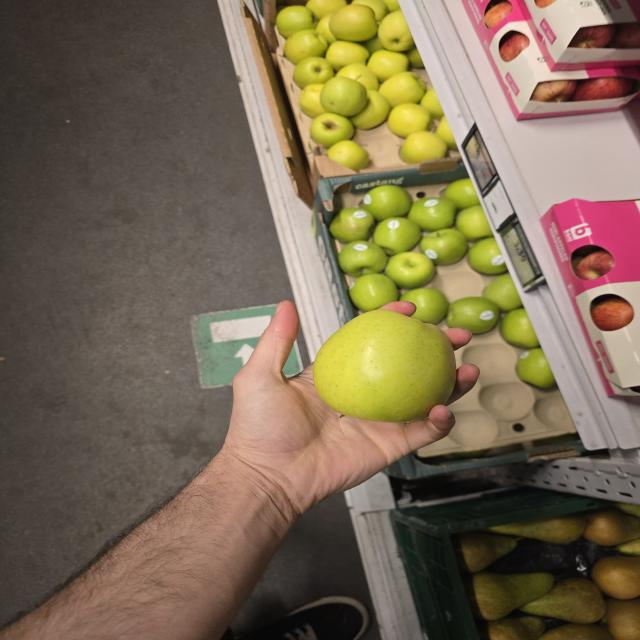Apple: (313, 309, 456, 422), (446, 297, 499, 335), (320, 76, 369, 117), (349, 273, 399, 312), (373, 217, 421, 255), (419, 228, 468, 265), (385, 252, 435, 288), (338, 241, 388, 277), (330, 5, 378, 42), (400, 288, 449, 324), (361, 185, 411, 220), (379, 72, 426, 108), (350, 89, 391, 130), (407, 198, 457, 231), (500, 308, 540, 349), (516, 348, 556, 389), (330, 207, 375, 242), (310, 113, 355, 148), (482, 273, 522, 312), (400, 131, 447, 164), (284, 29, 328, 64), (378, 10, 414, 52), (468, 237, 507, 275), (388, 103, 430, 138), (326, 140, 369, 172), (326, 41, 369, 71), (293, 57, 334, 88), (456, 205, 492, 240), (444, 178, 480, 208)
